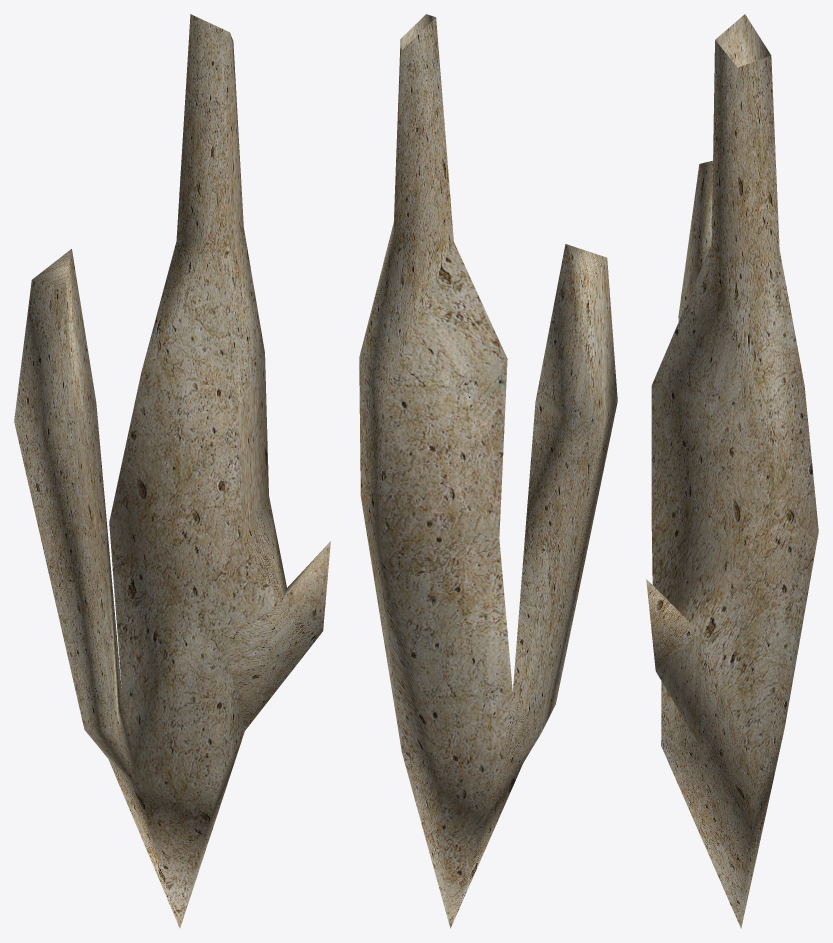
File: poi_all_lair_insecthill_small_l3.fbx
The picture shows the model from 3 angles, left to right: view 1: azimuth 30°, elevation 25°; view 2: azimuth 150°, elevation 25°; view 3: azimuth 270°, elevation 25°; orthographic projection.
Visible parts, largest first — view 1: mesh_node; view 2: mesh_node; view 3: mesh_node.
Part boxes in pixels (x1,y1,x2,y2): mesh_node: (14,14,330,928); mesh_node: (359,14,617,928); mesh_node: (646,14,818,928).
Bounding box in the file's own units: 1.12 × 3.74 × 0.6358.
1 material, 1 textured.
